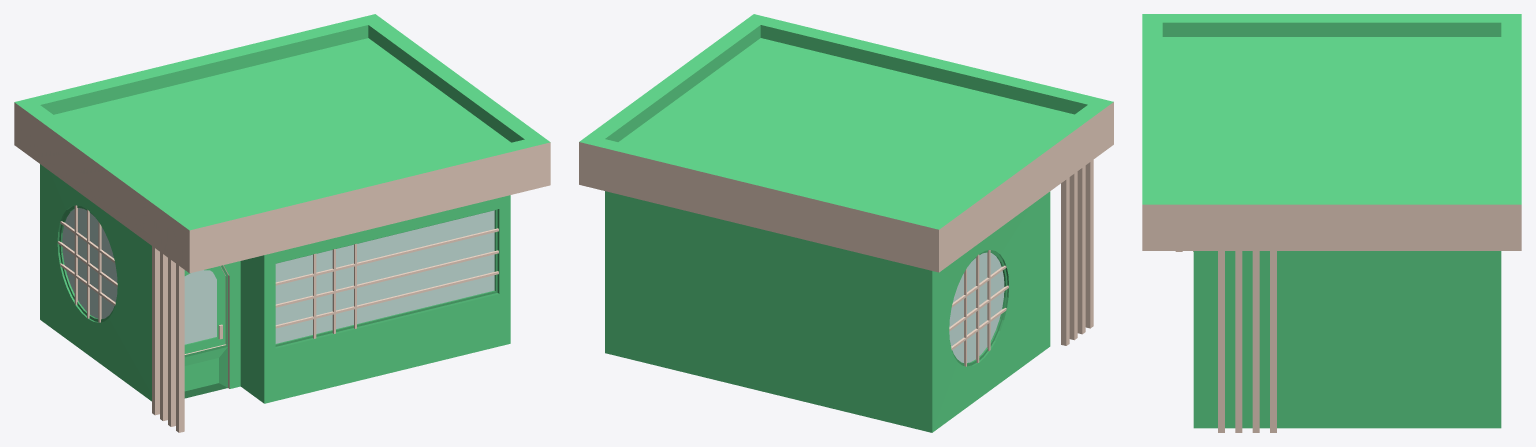
The model's file is Casa4.fbx.
3 renders of one model, left to right at view 1: azimuth 30°, elevation 25°; view 2: azimuth 150°, elevation 25°; view 3: azimuth 270°, elevation 25°, orthographic. The views are drawn at different scales.
Parts seen in each view (by area): view 1: market; view 2: market; view 3: market.
Boxes of the visible parts, left/top/right/bottom form: market: left=14, top=14, right=550, bottom=432; market: left=579, top=14, right=1113, bottom=432; market: left=1142, top=14, right=1521, bottom=432.
Bounding box in the file's own units: 764 × 435 × 642.
